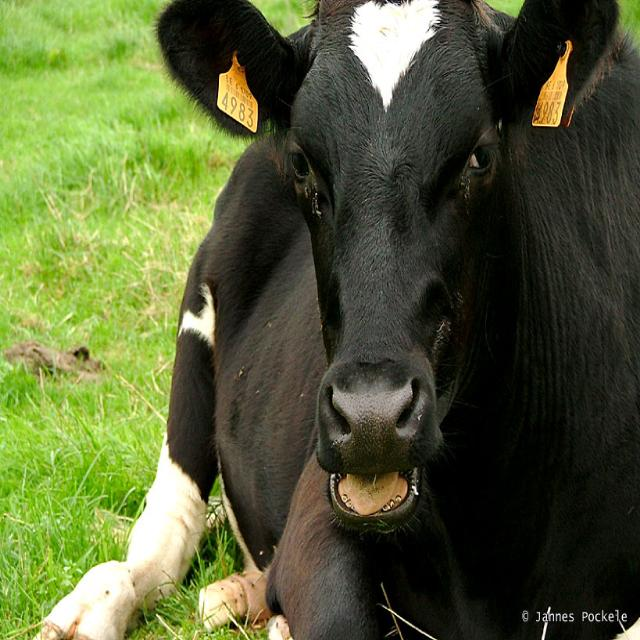cow: (40, 2, 640, 639)
